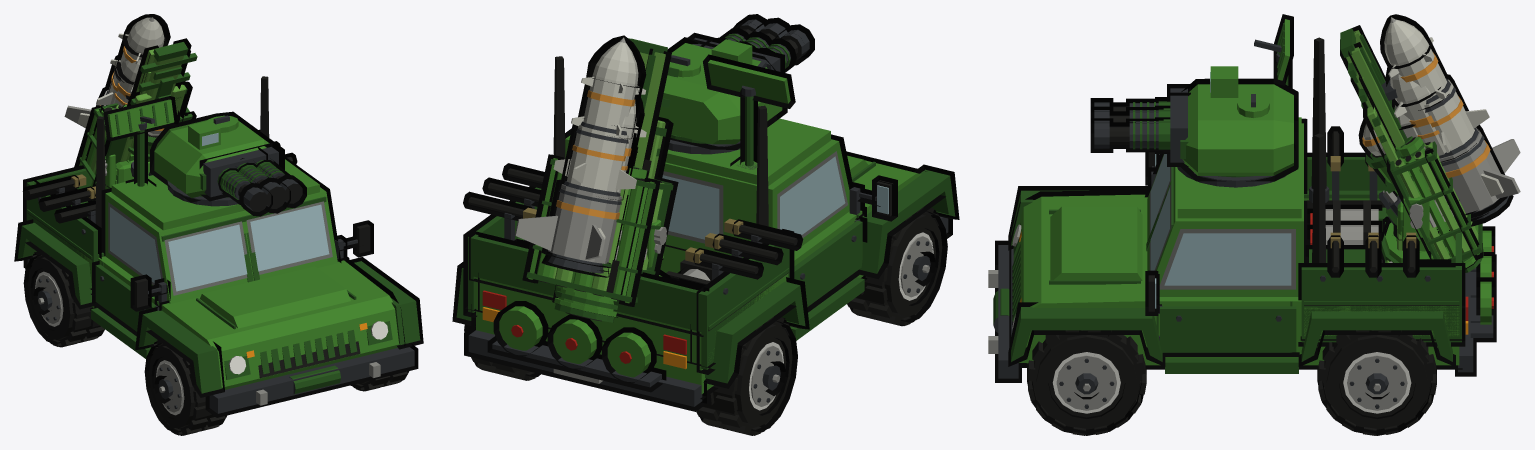
Rendered from jackal_jeep.glb.
The picture shows the model from 3 angles, left to right: view 1: azimuth 30°, elevation 25°; view 2: azimuth 150°, elevation 25°; view 3: azimuth 270°, elevation 25°; orthographic projection. The views are drawn at different scales.
Parts seen in each view (by area): view 1: Jeep_Hull, Jeep_Turret, Jeep_UpArmor, Jeep_Wheel_R2, Jeep_Wheel_R1, Jeep_UpTwin, Jeep_UpLoopholes, Jeep_UpRadarDish, Jeep_Gun, Jeep_StageMissile3Nose, Jeep_UpRadar, Jeep_GradSideRail-1 (+7 smaller); view 2: Jeep_Hull, Jeep_UpArmor, Jeep_UpMines, Jeep_UpLoopholes, Jeep_Turret, Jeep_Wheel_R2, Jeep_Wheel_R1, Jeep_StageMissile1, Jeep_UpRadarDish, Jeep_StageMissile2, Jeep_UpTwin, Jeep_StageMissile3 (+22 smaller); view 3: Jeep_Hull, Jeep_UpArmor, Jeep_Turret, Jeep_Wheel_L1, Jeep_Wheel_L2, Jeep_UpTwin, Jeep_UpLoopholes, Jeep_UpMines, Jeep_StageMissile1, Jeep_UpNitro, Jeep_StageMissile3Nose, Jeep_StageMissile2 (+20 smaller).
Part boxes in pixels (x1=…): Jeep_Hull: x1=14, y1=157, x2=423, y2=417; Jeep_Turret: x1=150, y1=111, x2=284, y2=202; Jeep_UpArmor: x1=23, y1=165, x2=349, y2=346; Jeep_Wheel_R2: x1=23, y1=250, x2=104, y2=347; Jeep_Wheel_R1: x1=144, y1=340, x2=226, y2=435; Jeep_UpTwin: x1=199, y1=143, x2=306, y2=216; Jeep_UpLoopholes: x1=22, y1=129, x2=297, y2=223; Jeep_UpRadarDish: x1=103, y1=96, x2=178, y2=140; Jeep_Gun: x1=214, y1=146, x2=290, y2=213; Jeep_StageMissile3Nose: x1=122, y1=14, x2=170, y2=57; Jeep_UpRadar: x1=125, y1=129, x2=156, y2=186; Jeep_GradSideRail-1: x1=74, y1=105, x2=104, y2=167; Jeep_Hull: x1=452, y1=118, x2=959, y2=411; Jeep_UpArmor: x1=463, y1=186, x2=867, y2=374; Jeep_UpMines: x1=487, y1=301, x2=666, y2=392; Jeep_UpLoopholes: x1=463, y1=163, x2=803, y2=280; Jeep_Turret: x1=659, y1=37, x2=787, y2=149; Jeep_Wheel_R2: x1=696, y1=316, x2=797, y2=435; Jeep_Wheel_R1: x1=847, y1=207, x2=947, y2=326; Jeep_StageMissile1: x1=541, y1=179, x2=628, y2=268; Jeep_UpRadarDish: x1=703, y1=54, x2=795, y2=108; Jeep_StageMissile2: x1=559, y1=124, x2=636, y2=200; Jeep_UpTwin: x1=687, y1=14, x2=814, y2=72; Jeep_StageMissile3: x1=576, y1=70, x2=643, y2=139; Jeep_Hull: x1=988, y1=117, x2=1476, y2=382; Jeep_UpArmor: x1=1160, y1=152, x2=1465, y2=356; Jeep_Turret: x1=1180, y1=66, x2=1298, y2=181; Jeep_Wheel_L1: x1=1027, y1=330, x2=1146, y2=435; Jeep_Wheel_L2: x1=1317, y1=330, x2=1436, y2=435; Jeep_UpTwin: x1=1090, y1=84, x2=1190, y2=166; Jeep_UpLoopholes: x1=1327, y1=126, x2=1419, y2=277; Jeep_UpMines: x1=1470, y1=226, x2=1496, y2=342; Jeep_StageMissile1: x1=1439, y1=124, x2=1507, y2=218; Jeep_UpNitro: x1=1307, y1=200, x2=1382, y2=244; Jeep_StageMissile3Nose: x1=1380, y1=14, x2=1432, y2=68; Jeep_StageMissile2: x1=1424, y1=74, x2=1479, y2=162.
Size of the model in its own units: 2.61 by 3.12 by 4.22.
